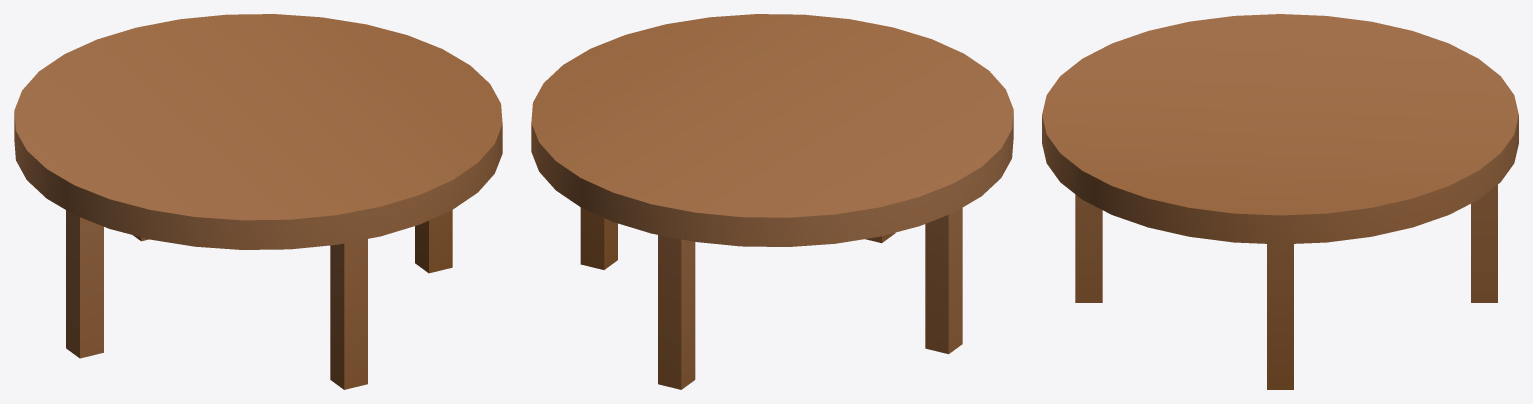
File: RoundTable.fbx
3 views of the same model, side by side, from view 1: azimuth 30°, elevation 25°; view 2: azimuth 150°, elevation 25°; view 3: azimuth 270°, elevation 25° (orthographic). The views are drawn at different scales.
Visible parts, largest first — view 1: Cube.004; view 2: Cube.004; view 3: Cube.004.
Part boxes in pixels (x1,y1,x2,y2): Cube.004: (14, 14, 502, 389); Cube.004: (531, 14, 1013, 389); Cube.004: (1042, 14, 1518, 389).
Bounding box in the file's own units: 0.3743 × 0.1612 × 0.3743.
1 material, 1 textured.
